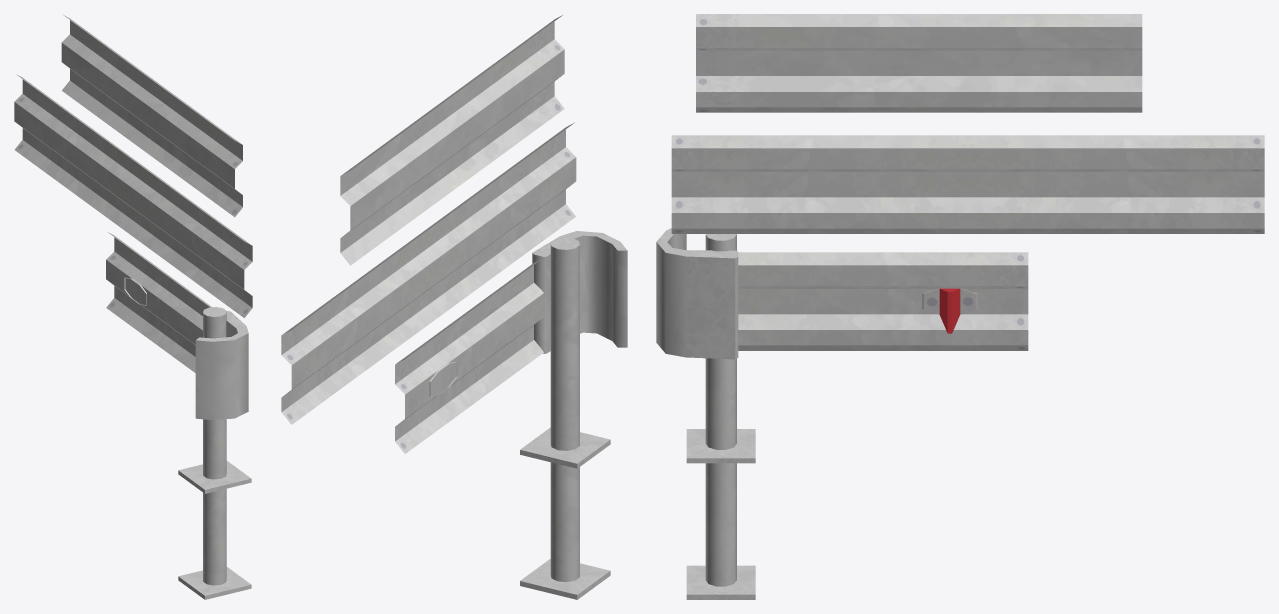
Rendered from HighwayColorFix.fbx.
The picture shows the model from 3 angles, left to right: view 1: azimuth 30°, elevation 25°; view 2: azimuth 150°, elevation 25°; view 3: azimuth 270°, elevation 25°; orthographic projection. The views are drawn at different scales.
Visible parts, largest first — view 1: HighwayWall_Center.001, HighwayWall_Center, HighwayWall_Corner, BaseSupportArrow, BaseSupport; view 2: HighwayWall_Center.001, HighwayWall_Center, HighwayWall_Corner, BaseSupportArrow, BaseSupport; view 3: HighwayWall_Center.001, HighwayWall_Center, HighwayWall_Corner, BaseSupportArrow, BaseSupport, HighwayRedLight.
Part boxes in pixels (x1=…): HighwayWall_Center.001: x1=14, y1=74, x2=252, y2=317; HighwayWall_Center: x1=61, y1=14, x2=242, y2=217; HighwayWall_Corner: x1=106, y1=232, x2=248, y2=419; BaseSupportArrow: x1=178, y1=419, x2=251, y2=599; BaseSupport: x1=178, y1=307, x2=251, y2=493; HighwayWall_Center.001: x1=281, y1=122, x2=576, y2=424; HighwayWall_Center: x1=340, y1=15, x2=564, y2=265; HighwayWall_Corner: x1=395, y1=231, x2=627, y2=453; BaseSupportArrow: x1=520, y1=375, x2=610, y2=599; BaseSupport: x1=520, y1=237, x2=610, y2=468; HighwayWall_Center.001: x1=671, y1=135, x2=1264, y2=233; HighwayWall_Center: x1=696, y1=14, x2=1142, y2=112; HighwayWall_Corner: x1=656, y1=228, x2=1028, y2=359; BaseSupportArrow: x1=686, y1=371, x2=755, y2=599; BaseSupport: x1=686, y1=234, x2=755, y2=463; HighwayRedLight: x1=922, y1=288, x2=977, y2=333.
Bounding box in the file's own units: 311 × 2097 × 2001.
